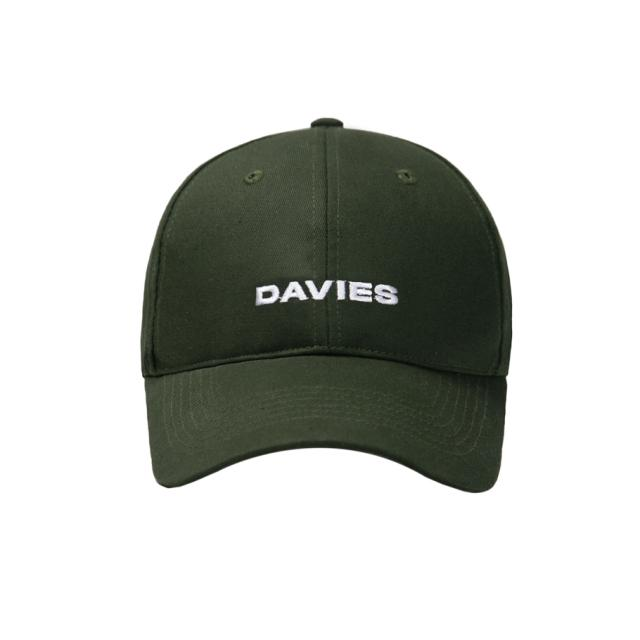no_helmet: (124, 90, 536, 523)
